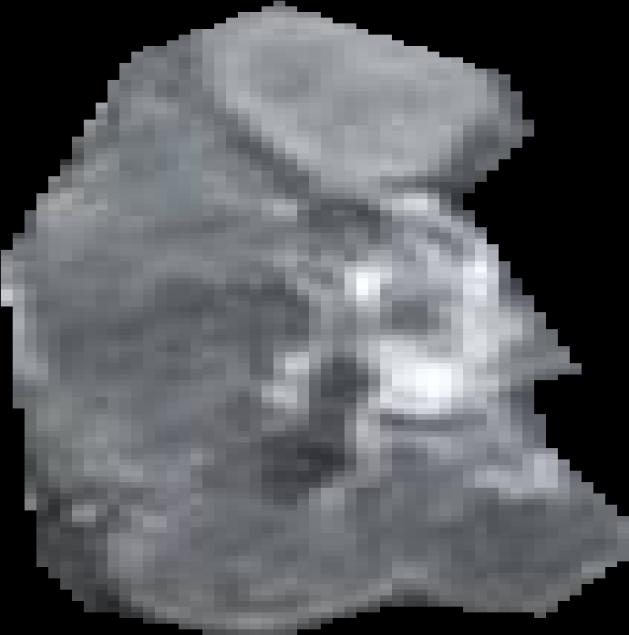tumor_moderate_chance: (1, 1, 629, 635)
